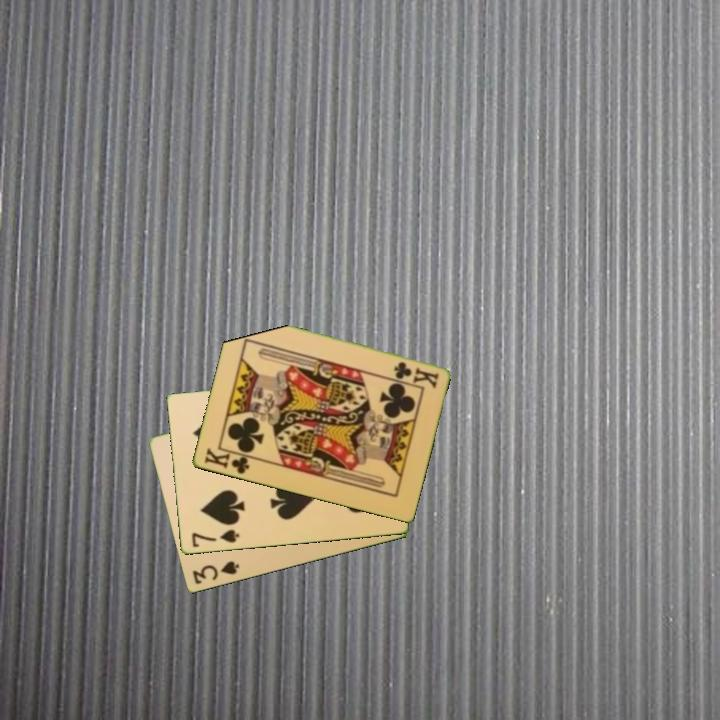3s: (189, 558, 242, 587)
7s: (188, 526, 242, 550)
Kc: (200, 445, 257, 477), (390, 358, 441, 390)
